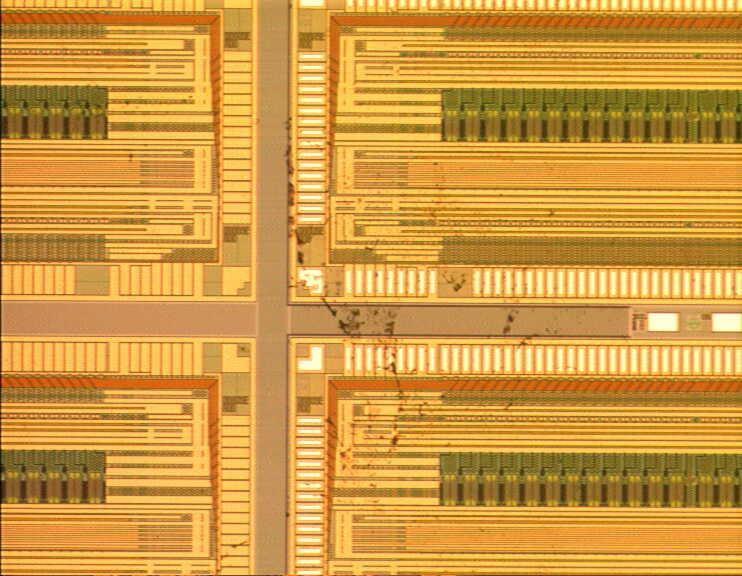PO CONTAMINATION: (215, 167, 565, 571)
